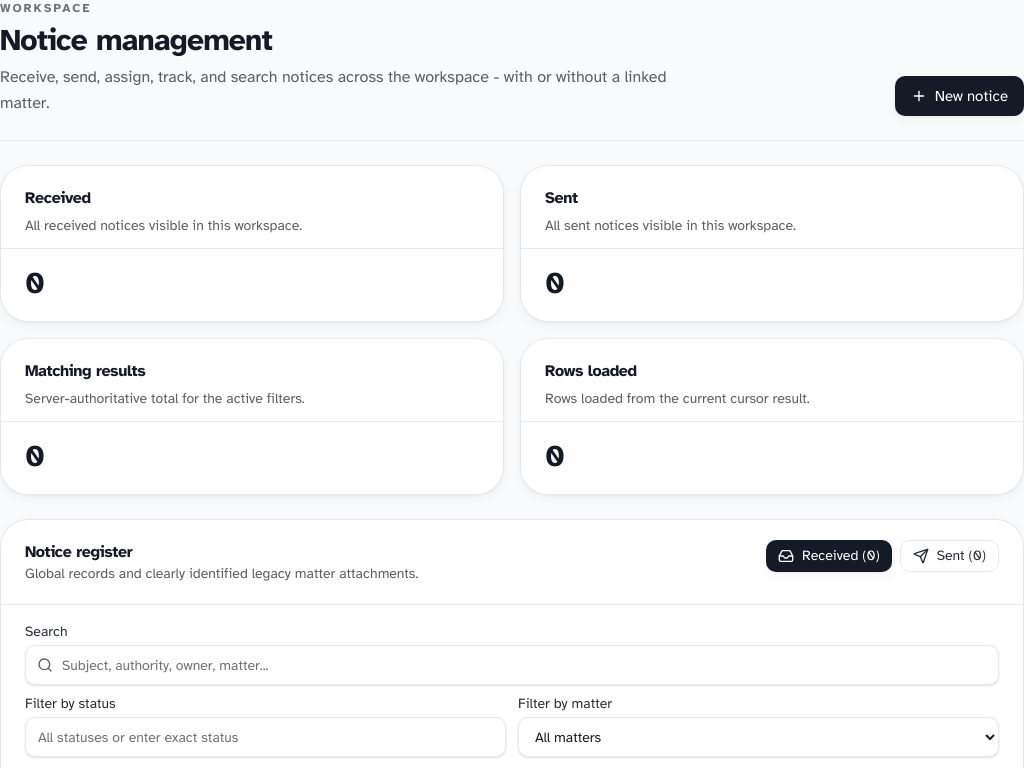
Scenario: centralized notice management › shows a committed notice and closes the dialog while register reconciliation is slow
Click the button "New notice" at (959, 96), box 895,76 -> 1023,116
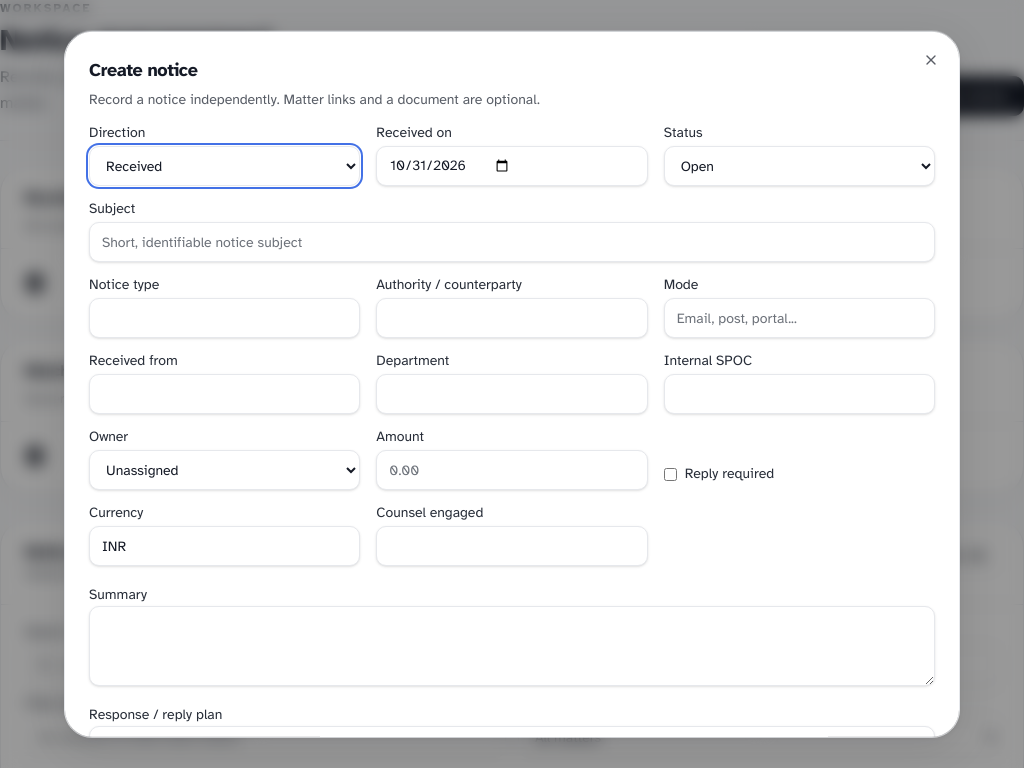
Type "Committed production notice" into the field labelled "Subject" at (512, 242), box 89,222 -> 935,262
(page scrolled)
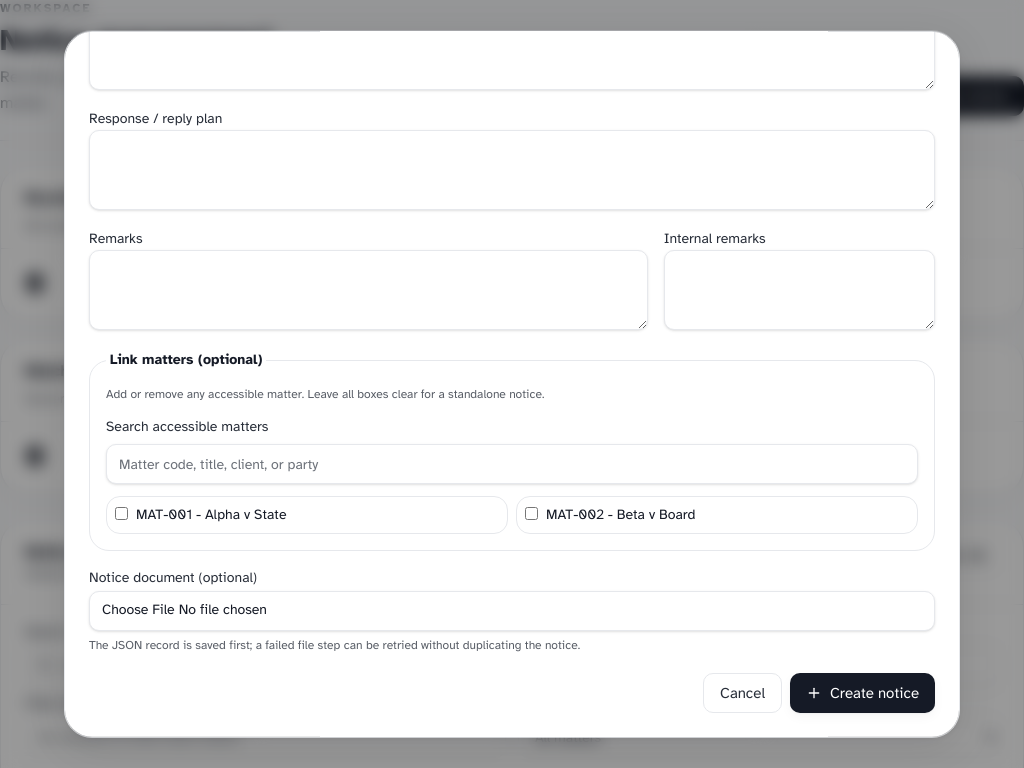
Click the button "Create notice" at (862, 693), box 790,673 -> 935,713
(page scrolled)
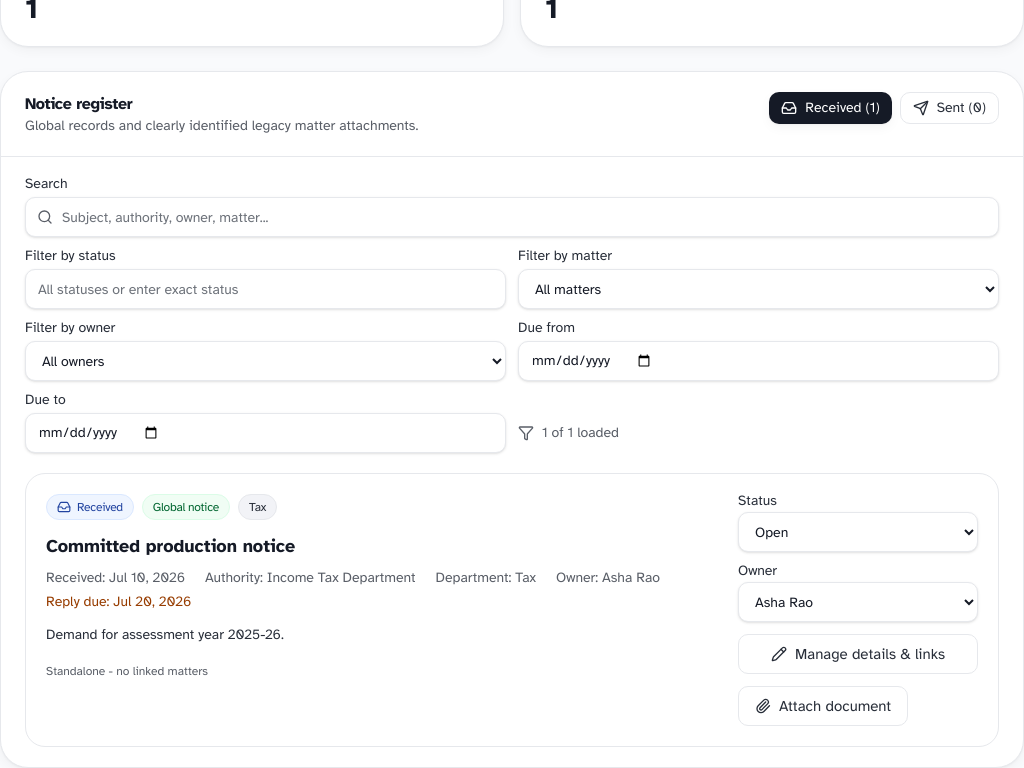
Now the heading "Committed production notice" is shown, box 46,535 -> 295,557
Now the dialog with test id "create-notice-dialog" is gone
